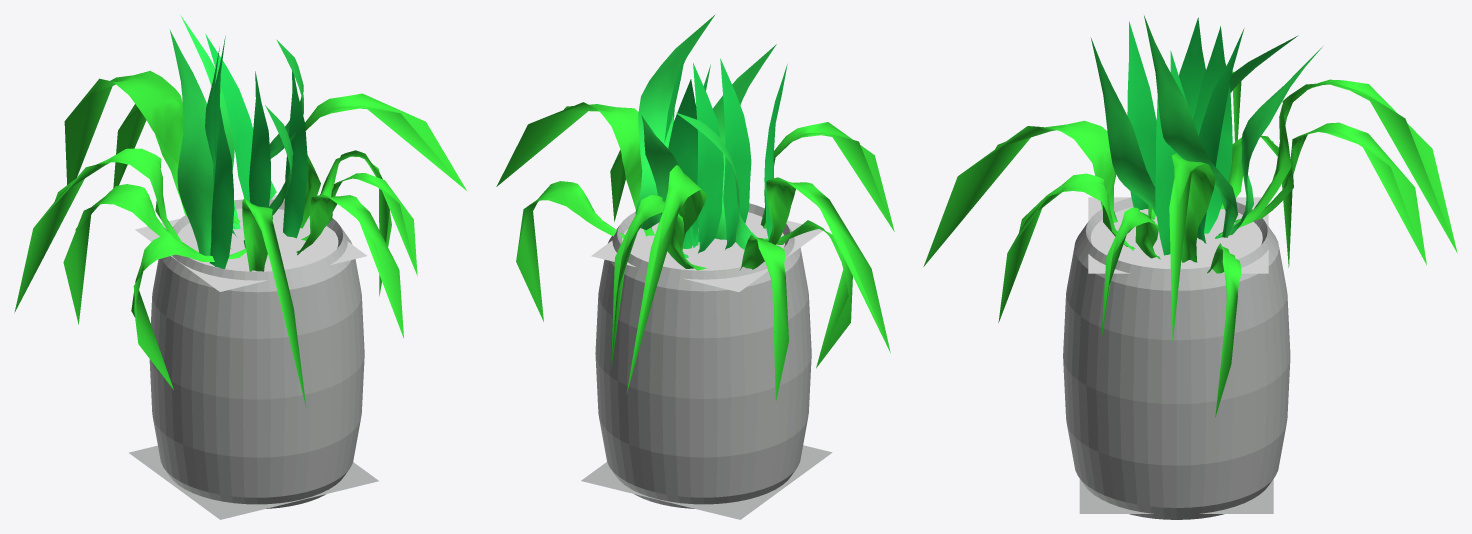
File: plant6.gltf
The picture shows the model from 3 angles, left to right: view 1: azimuth 30°, elevation 25°; view 2: azimuth 150°, elevation 25°; view 3: azimuth 270°, elevation 25°; orthographic projection. The views are drawn at different scales.
Visible parts, largest first — view 1: Cube, BezierCurve.002, BezierCurve.013, Plane.001, BezierCurve.005, BezierCurve.009, BezierCurve.011, BezierCurve.010, BezierCurve.001, BezierCurve.004, BezierCurve.012, BezierCurve.014 (+10 smaller); view 2: Cube, BezierCurve.009, Plane.001, BezierCurve.005, BezierCurve.002, BezierCurve.016, BezierCurve.017, BezierCurve.006, BezierCurve.008, BezierCurve.001, BezierCurve.011, BezierCurve.003 (+8 smaller); view 3: Cube, BezierCurve.011, BezierCurve.002, Plane.001, BezierCurve.009, BezierCurve.016, BezierCurve.003, BezierCurve.026, BezierCurve.012, BezierCurve.010, BezierCurve.006, BezierCurve.008 (+8 smaller).
Part boxes in pixels (x1,y1,x2,y2): Cube: (149, 199, 364, 508); BezierCurve.002: (64, 70, 240, 224); BezierCurve.013: (169, 29, 213, 255); Plane.001: (135, 195, 366, 291); BezierCurve.005: (14, 148, 199, 312); BezierCurve.009: (300, 93, 466, 228); BezierCurve.011: (242, 197, 306, 407); BezierCurve.010: (296, 194, 403, 338); BezierCurve.001: (63, 184, 169, 324); BezierCurve.004: (131, 233, 246, 389); BezierCurve.012: (209, 99, 234, 268); BezierCurve.014: (283, 71, 307, 238); Cube: (595, 203, 811, 508); BezierCurve.009: (496, 102, 654, 236); Plane.001: (591, 212, 822, 292); BezierCurve.005: (766, 177, 890, 352); BezierCurve.002: (626, 165, 707, 393); BezierCurve.016: (635, 14, 715, 229); BezierCurve.017: (720, 58, 751, 249); BezierCurve.006: (693, 63, 723, 253); BezierCurve.008: (516, 181, 625, 321); BezierCurve.001: (739, 234, 788, 401); BezierCurve.011: (760, 122, 894, 231); BezierCurve.003: (611, 195, 707, 371); Cube: (1063, 197, 1290, 519); BezierCurve.011: (923, 120, 1117, 266); BezierCurve.002: (1218, 79, 1457, 253); Plane.001: (1088, 197, 1268, 273); BezierCurve.009: (1169, 153, 1215, 341); BezierCurve.016: (1144, 15, 1238, 237); BezierCurve.003: (1235, 122, 1426, 265); BezierCurve.026: (1090, 37, 1156, 215); BezierCurve.012: (1127, 21, 1156, 209); BezierCurve.010: (998, 173, 1135, 322); BezierCurve.006: (1194, 26, 1232, 233); BezierCurve.008: (1207, 243, 1241, 417).
Bounding box in the file's own units: 4.91 × 4.92 × 5.08.
